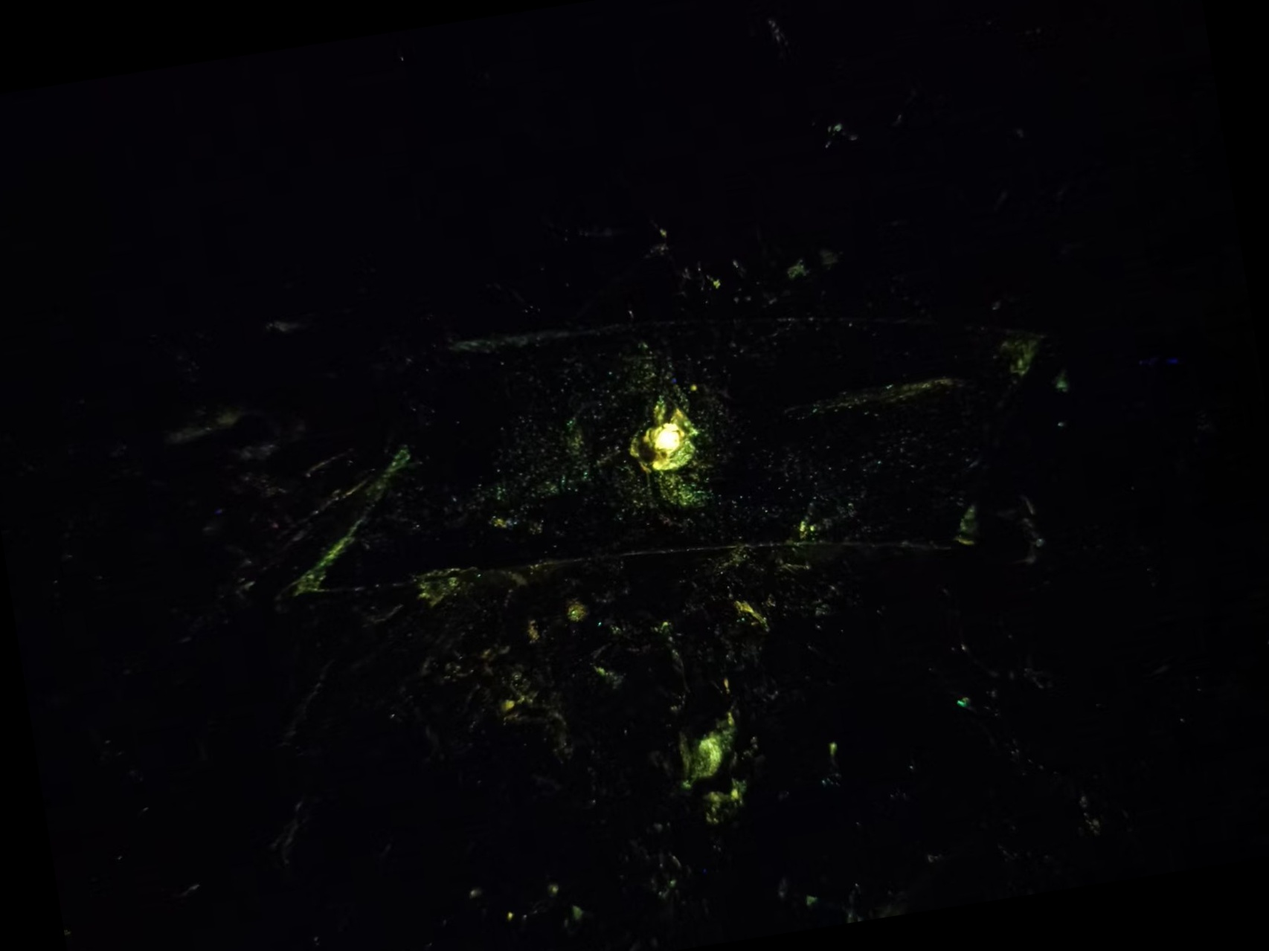Crater: (592, 369, 745, 503)
